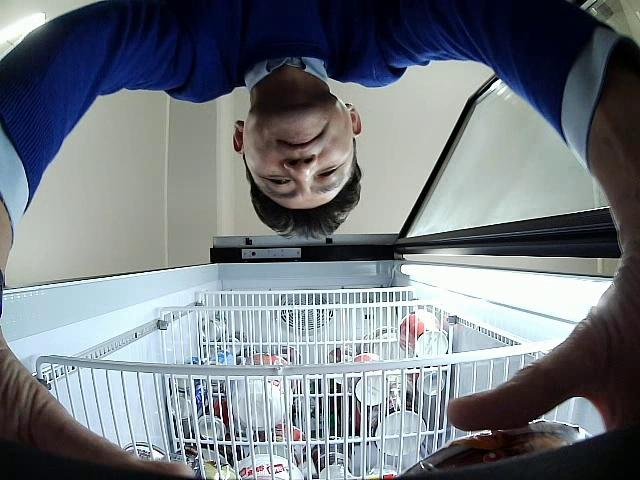00_hand: (446, 182, 640, 433)
